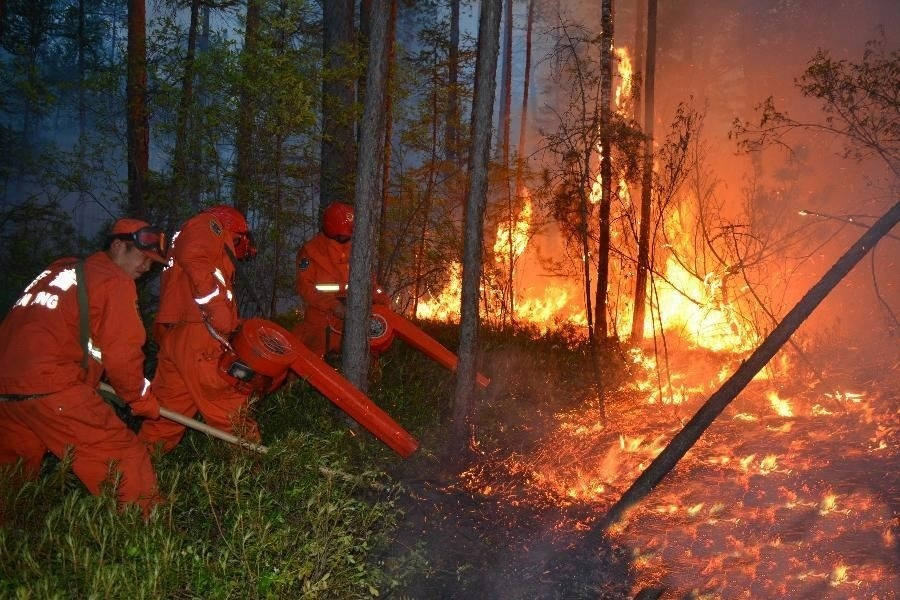fire: (439, 72, 888, 575)
